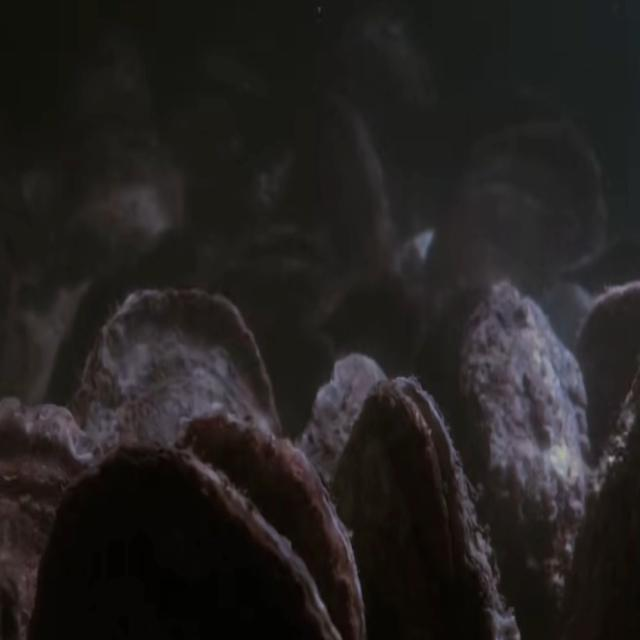Oyster-Closed: (32, 441, 338, 640), (178, 405, 365, 640), (0, 394, 101, 639)
Oyster-Indeterminate: (69, 286, 282, 640), (452, 280, 595, 640), (425, 120, 610, 324), (293, 353, 391, 640), (292, 94, 399, 296), (60, 142, 185, 275), (573, 280, 640, 517)
Oyster-Open: (330, 375, 517, 640), (219, 224, 342, 337)
